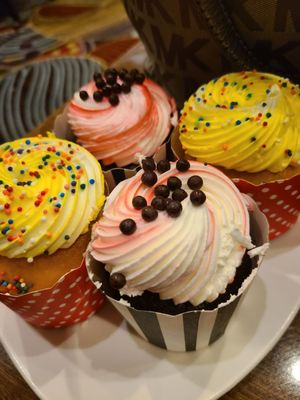sushi: (84, 156, 271, 317), (171, 70, 300, 176)
